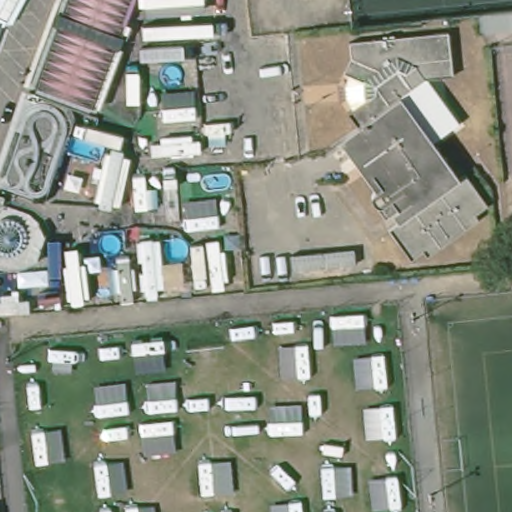pool: (154, 61, 192, 90), (64, 138, 106, 164), (158, 234, 194, 262), (200, 170, 235, 195), (95, 232, 125, 259)
